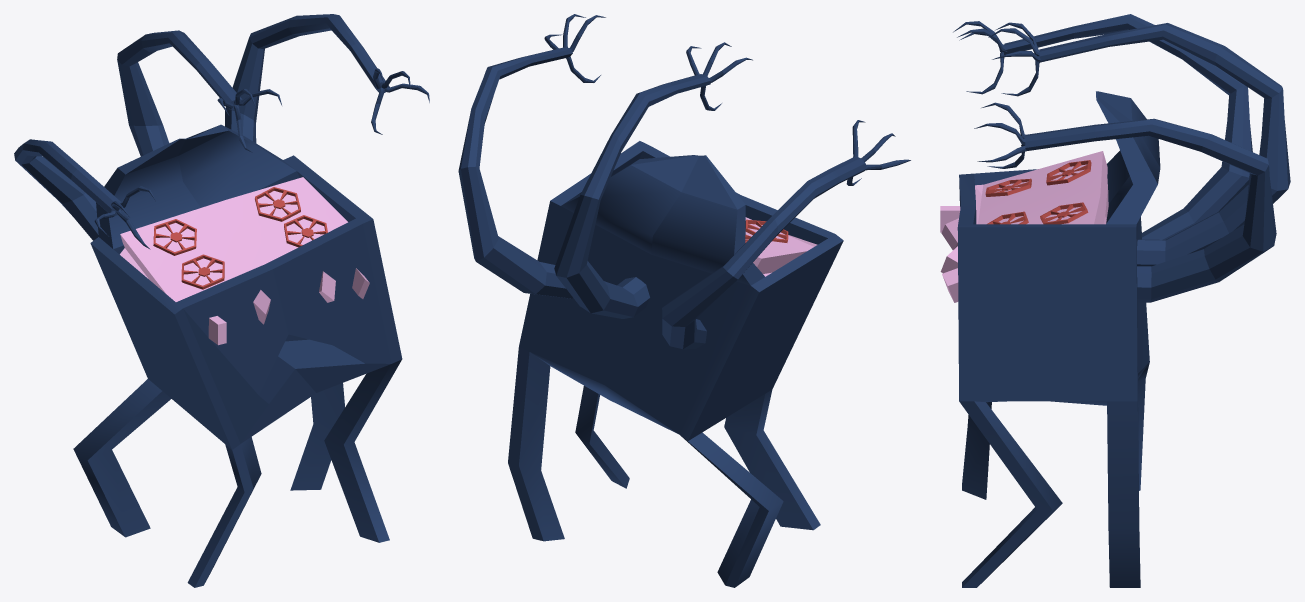
Rendered from StoveOn.fbx.
3 renders of one model, left to right at view 1: azimuth 30°, elevation 25°; view 2: azimuth 150°, elevation 25°; view 3: azimuth 270°, elevation 25°, orthographic. The views are drawn at different scales.
Parts seen in each view (by area): view 1: pCube6, pCylinder15, pCylinder16, pCylinder14; view 2: pCube6, pCylinder15, pCylinder16, pCylinder14; view 3: pCube6, pCylinder16, pCylinder15, pCylinder14.
Part boxes in pixels (box(x1,y1,x2,y2)): pCube6: box(73, 124, 402, 587); pCylinder15: box(117, 30, 281, 156); pCylinder16: box(225, 14, 429, 142); pCylinder14: box(14, 139, 156, 249); pCube6: box(508, 141, 843, 587); pCylinder15: box(554, 42, 752, 318); pCylinder16: box(458, 14, 605, 298); pCylinder14: box(662, 120, 910, 349); pCube6: box(940, 91, 1160, 587); pCylinder16: box(974, 102, 1276, 302); pCylinder15: box(988, 22, 1290, 266); pCylinder14: box(953, 14, 1252, 239).
Bounding box in the file's own units: 7.05 × 9.31 × 5.88.
